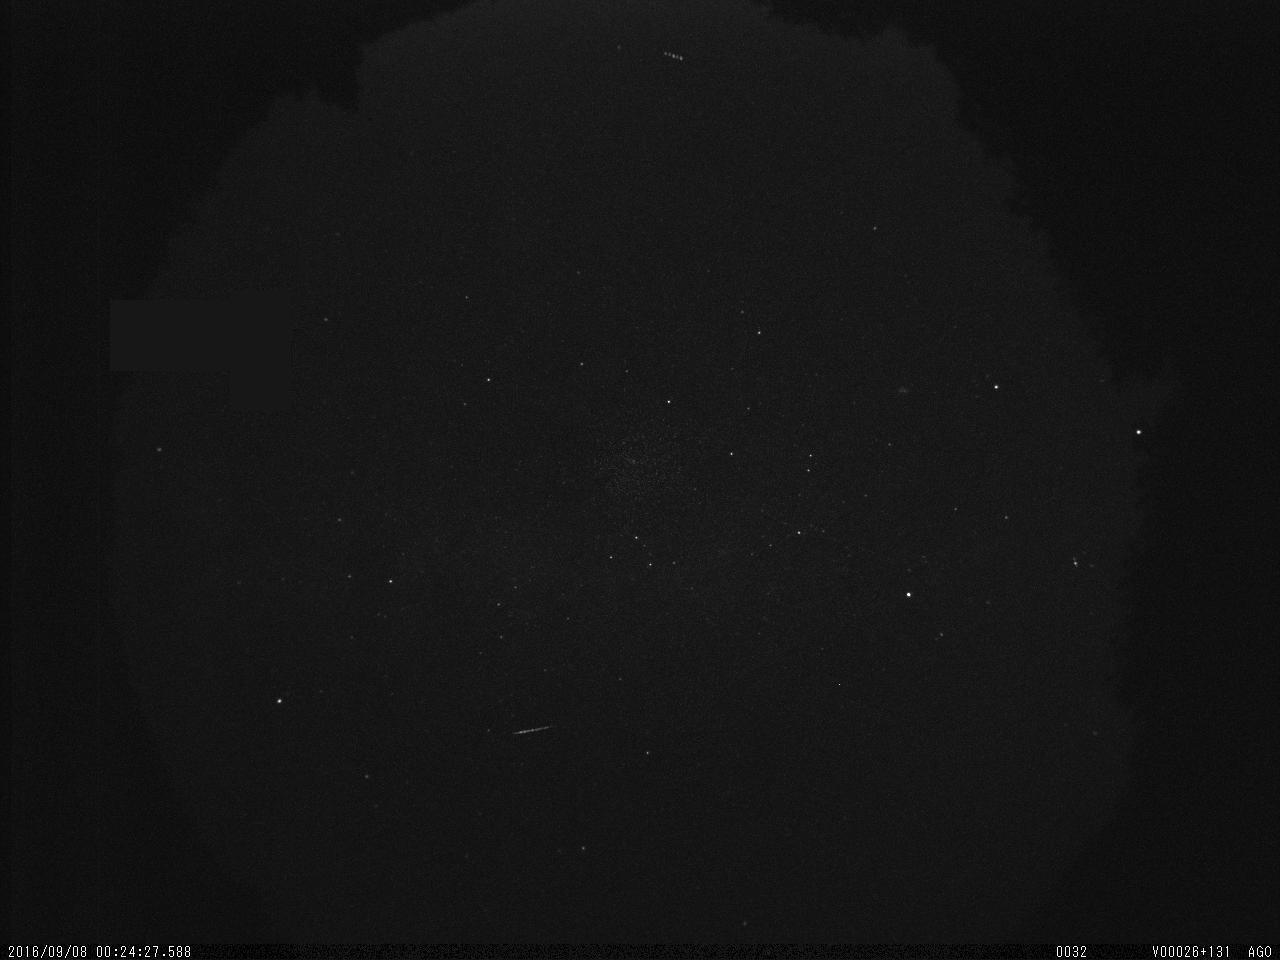meteor: (492, 711, 579, 749)
